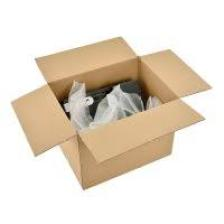cardboard: (6, 27, 206, 193)
